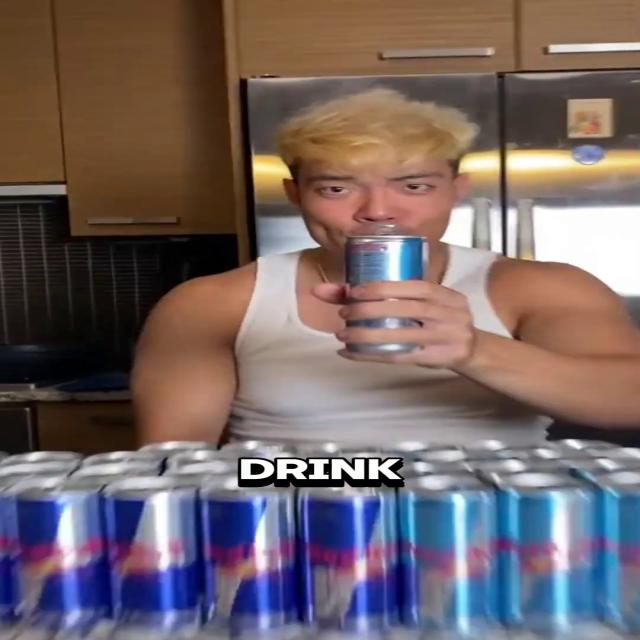Can: (341, 235, 425, 355)
Hand: (312, 274, 476, 373)
